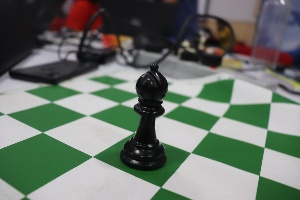black_bishop: (124, 55, 168, 175)
